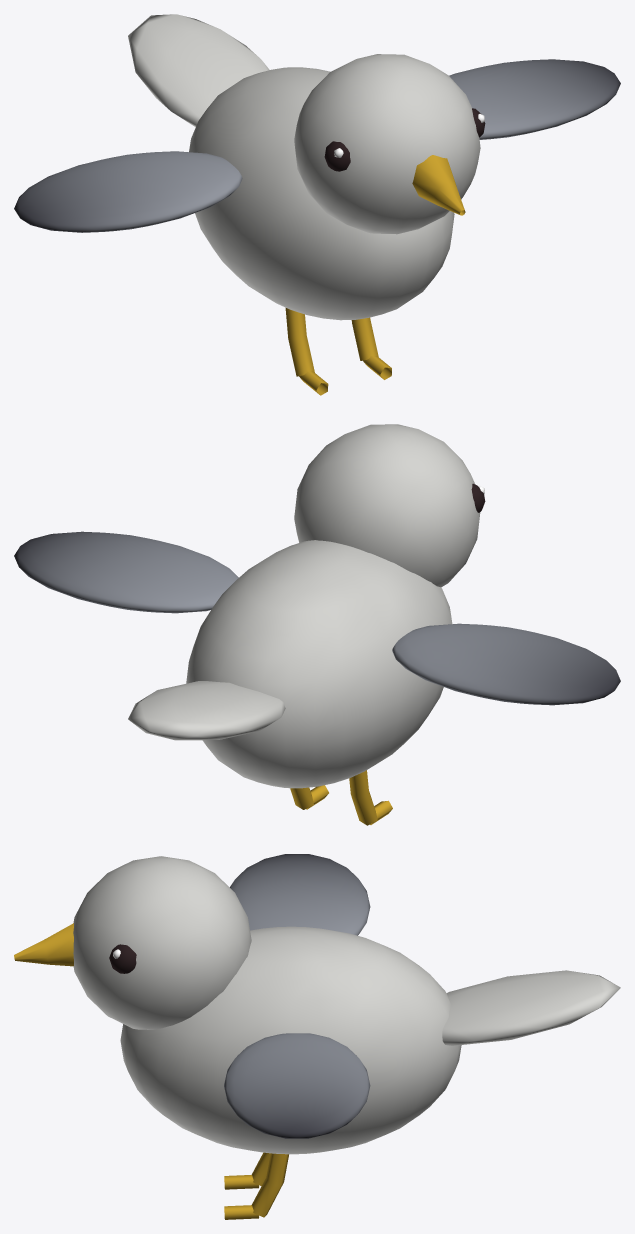
The model's file is critter_gull.glb.
The picture shows the model from 3 angles, top to bottom: view 1: azimuth 30°, elevation 25°; view 2: azimuth 150°, elevation 25°; view 3: azimuth 270°, elevation 25°; orthographic projection. The views are drawn at different scales.
Parts seen in each view (by area): view 1: gull_body, gull_wing_l, gull_wing_r, gull_eye_l; view 2: gull_body, gull_wing_l, gull_wing_r; view 3: gull_body, gull_wing_r, gull_wing_l, gull_eye_r.
Part boxes in pixels (x1,y1,x2,y2): gull_body: [128, 14, 480, 395]; gull_wing_l: [14, 151, 242, 232]; gull_wing_r: [449, 59, 620, 139]; gull_eye_l: [324, 141, 350, 171]; gull_body: [128, 424, 480, 825]; gull_wing_l: [392, 623, 620, 705]; gull_wing_r: [14, 531, 238, 613]; gull_body: [14, 856, 620, 1219]; gull_wing_r: [224, 1033, 370, 1138]; gull_wing_l: [230, 854, 370, 935]; gull_eye_r: [109, 944, 136, 973].
Bounding box in the file's own units: 0.5125 × 0.2878 × 0.466.
